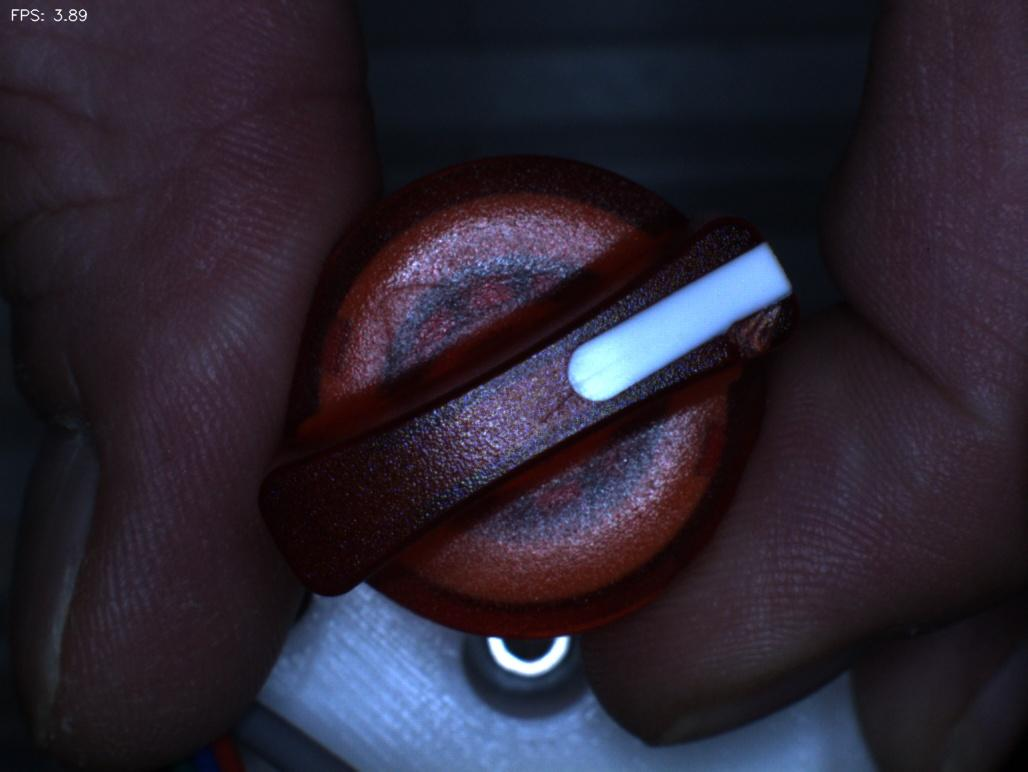Choc: (712, 288, 802, 384)
